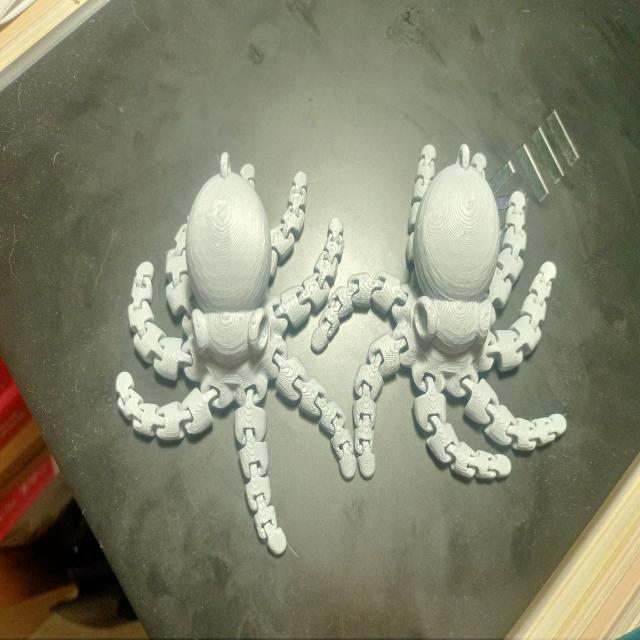Without deffect: (104, 121, 582, 556)
